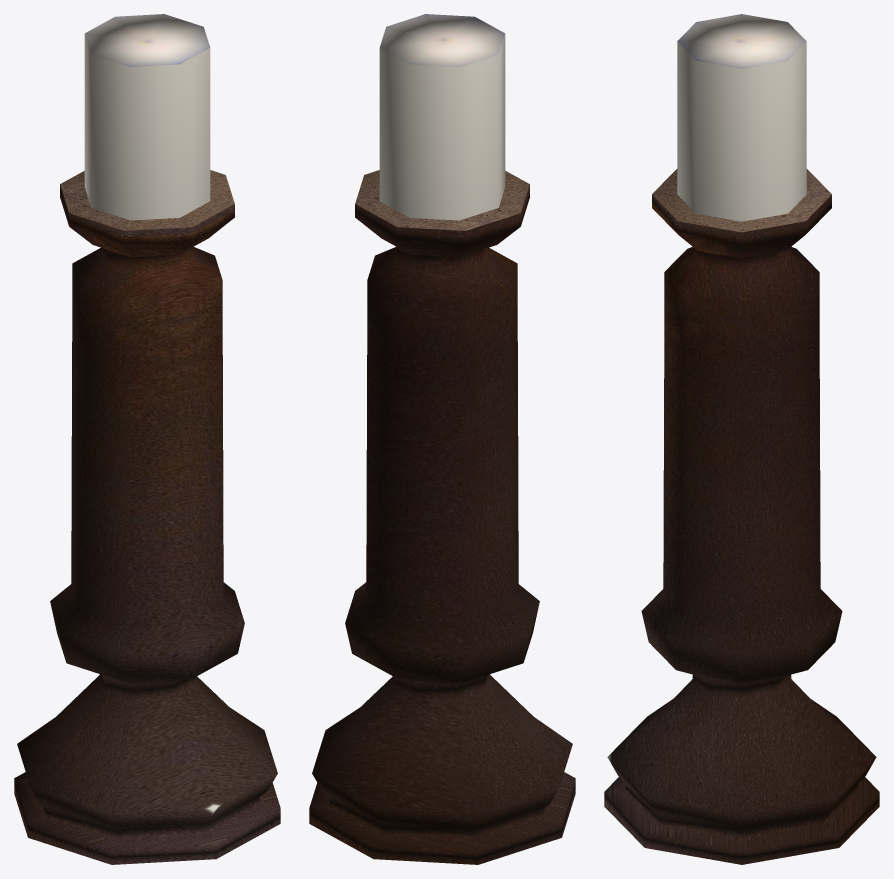
The picture shows the model from 3 angles, left to right: view 1: azimuth 30°, elevation 25°; view 2: azimuth 150°, elevation 25°; view 3: azimuth 270°, elevation 25°; orthographic projection.
Parts seen in each view (by area): view 1: pCylinder12; view 2: pCylinder12; view 3: pCylinder12.
Boxes of the visible parts, left/top/right/bottom form: pCylinder12: left=14, top=14, right=280, bottom=864; pCylinder12: left=309, top=14, right=575, bottom=864; pCylinder12: left=604, top=14, right=879, bottom=864.
Bounding box in the file's own units: 0.2043 × 0.6274 × 0.2043.
Materials: 1 (1 with a texture image).
